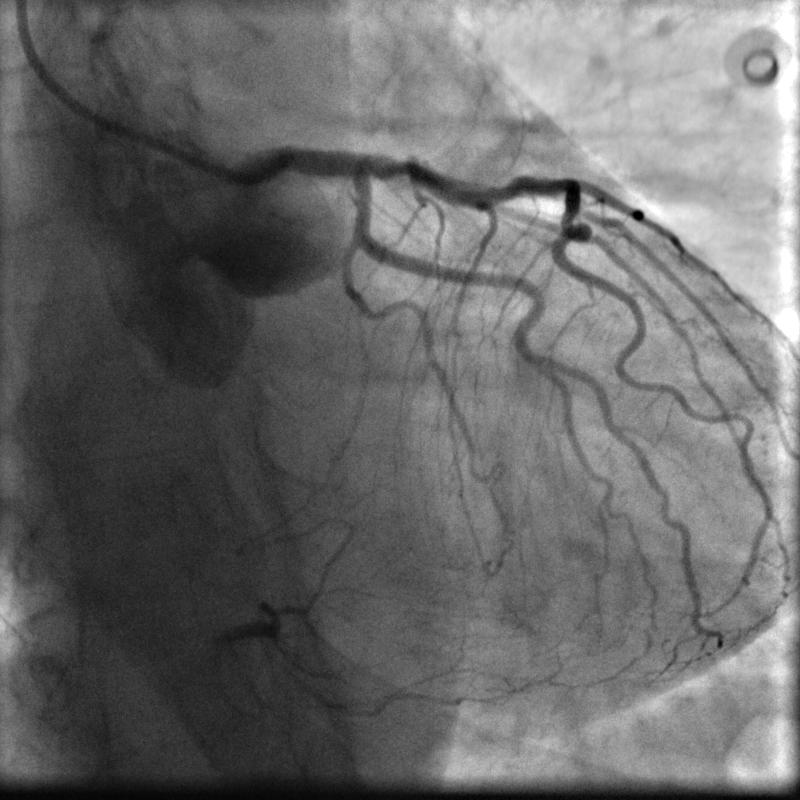Stenosis: (378, 151, 411, 185)
